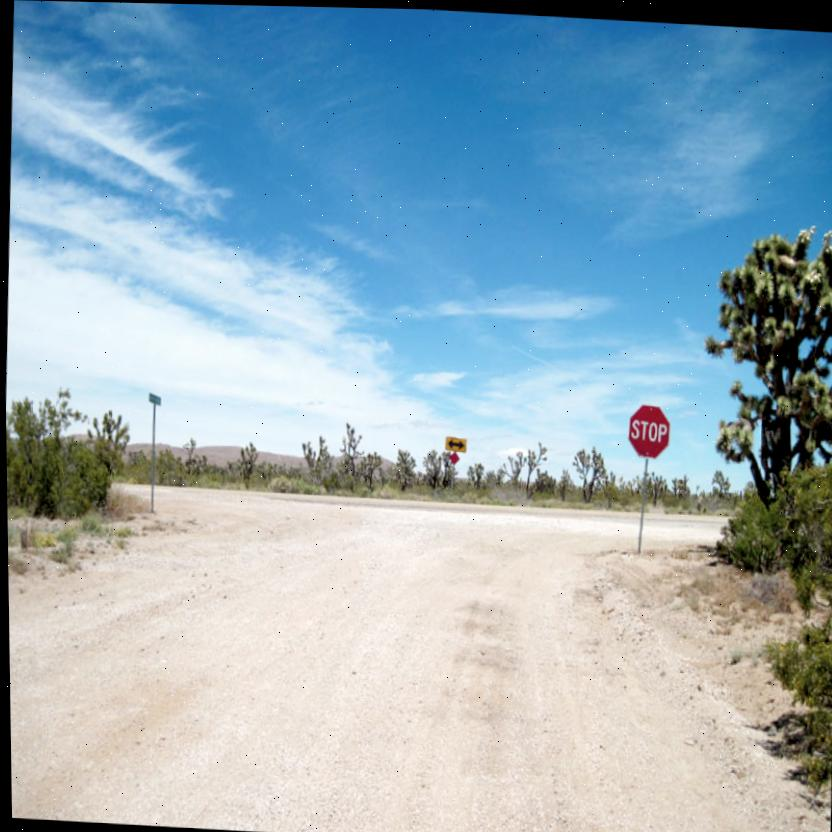Pole: (635, 454, 650, 549), (147, 402, 157, 514), (450, 461, 454, 497)
Sign: (625, 400, 671, 456)
